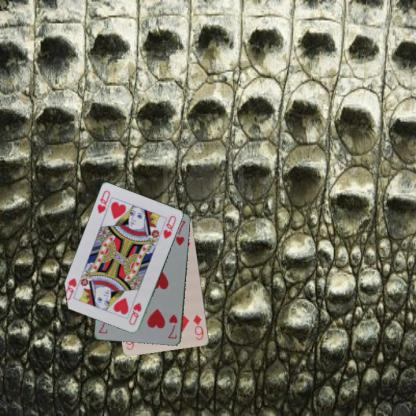6d: (191, 312, 205, 342)
7h: (165, 312, 179, 340)
Qh: (94, 188, 112, 215), (126, 300, 143, 326)
